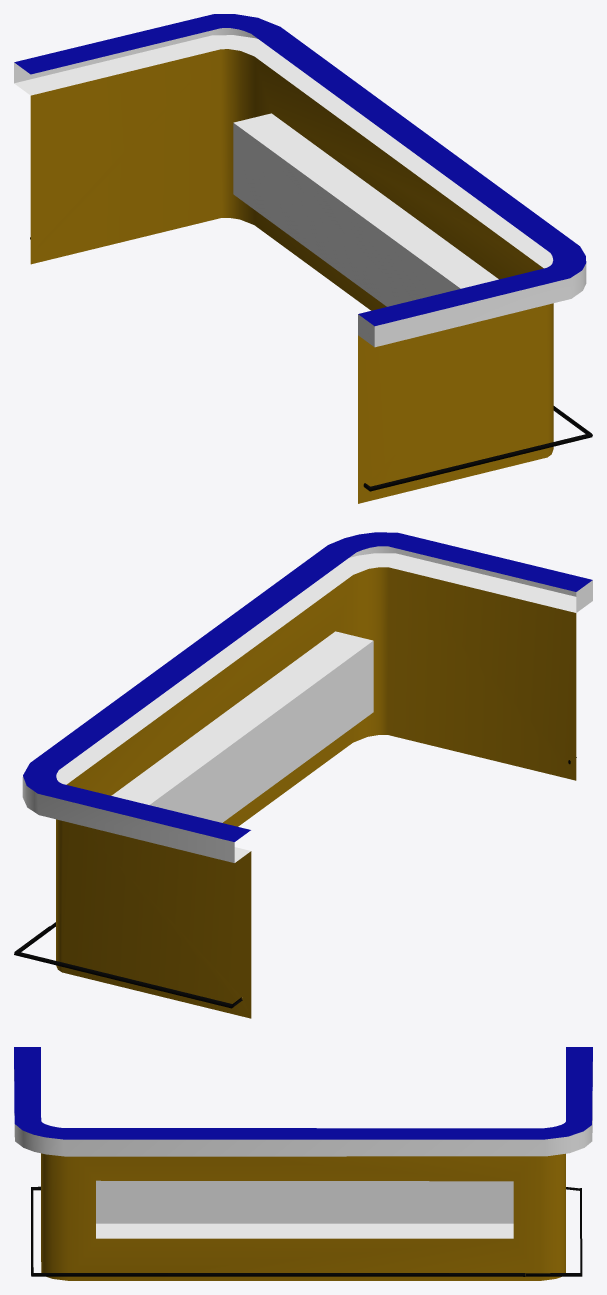
The model's file is Bar decimated.glb.
3 views of the same model, one above another, from view 1: azimuth 30°, elevation 25°; view 2: azimuth 150°, elevation 25°; view 3: azimuth 270°, elevation 25° (orthographic). The views are drawn at different scales.
Visible parts, largest first — view 1: Bar; view 2: Bar; view 3: Bar.
Part boxes in pixels (x1,y1,x2,y2): Bar: (14, 14, 592, 503); Bar: (14, 532, 592, 1018); Bar: (14, 1047, 592, 1280).
Size of the model in its own units: 1.47 by 1.13 by 3.89.
